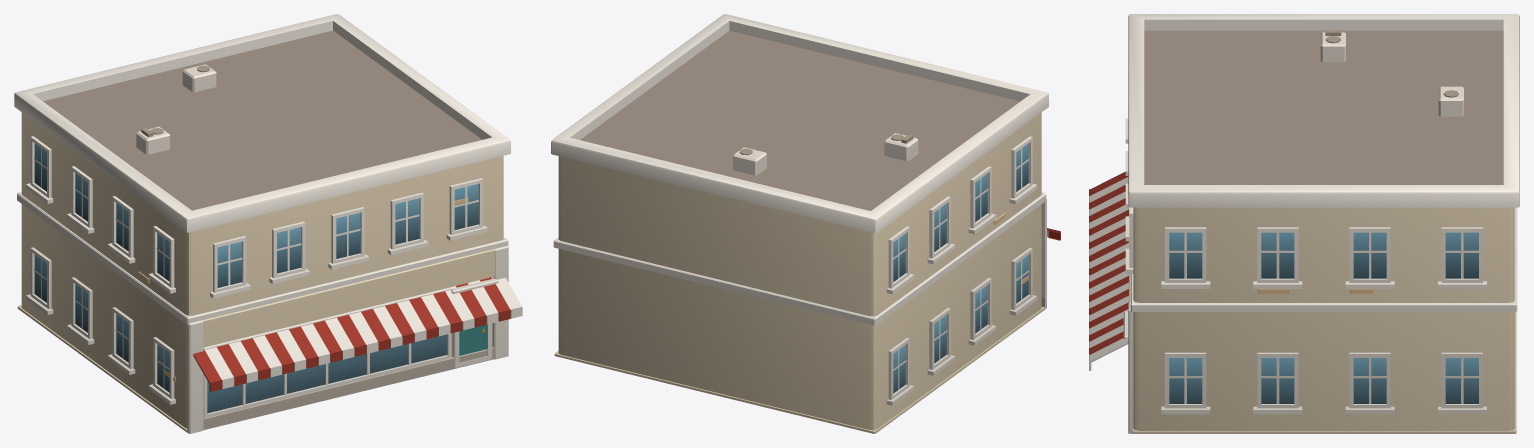
The model's file is vee_right1.glb.
The picture shows the model from 3 angles, left to right: view 1: azimuth 30°, elevation 25°; view 2: azimuth 150°, elevation 25°; view 3: azimuth 270°, elevation 25°; orthographic projection. The views are drawn at different scales.
Visible parts, largest first — view 1: vee_right1; view 2: vee_right1; view 3: vee_right1.
Part boxes in pixels (x1,y1,x2,y2): vee_right1: [14, 14, 522, 433]; vee_right1: [551, 14, 1060, 433]; vee_right1: [1089, 14, 1519, 433].
Size of the model in its own units: 13.48 by 8.79 by 13.55.
1 material, 1 textured.
